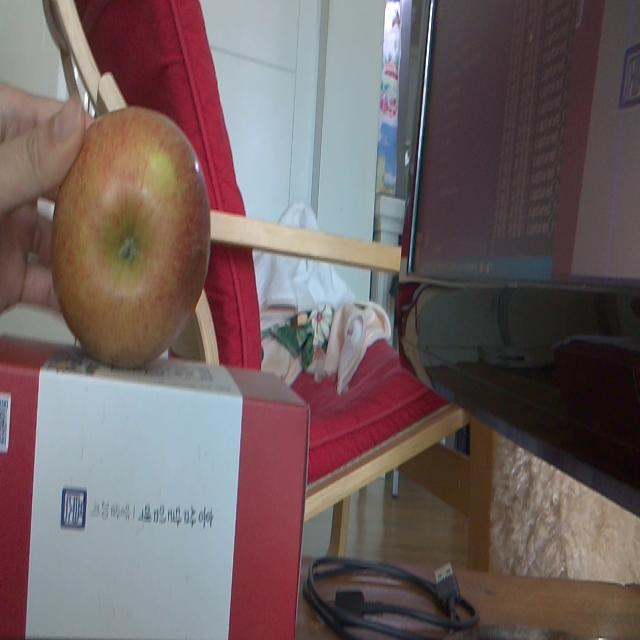apple: (52, 99, 210, 366)
